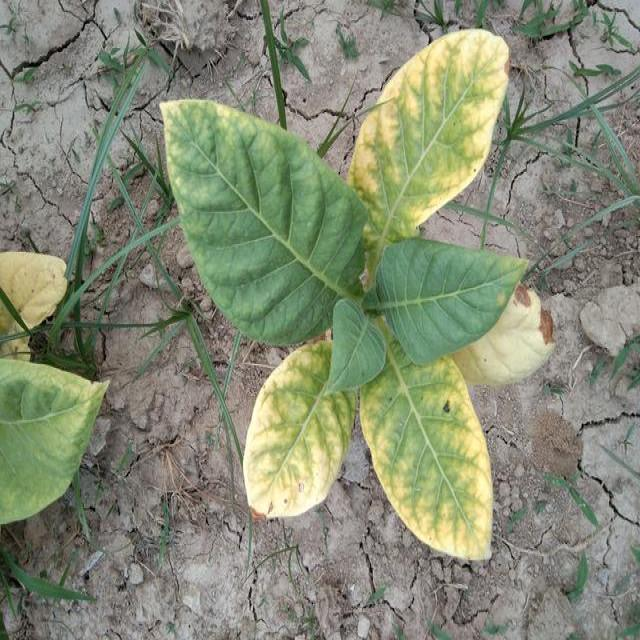crop: (151, 20, 563, 564)
